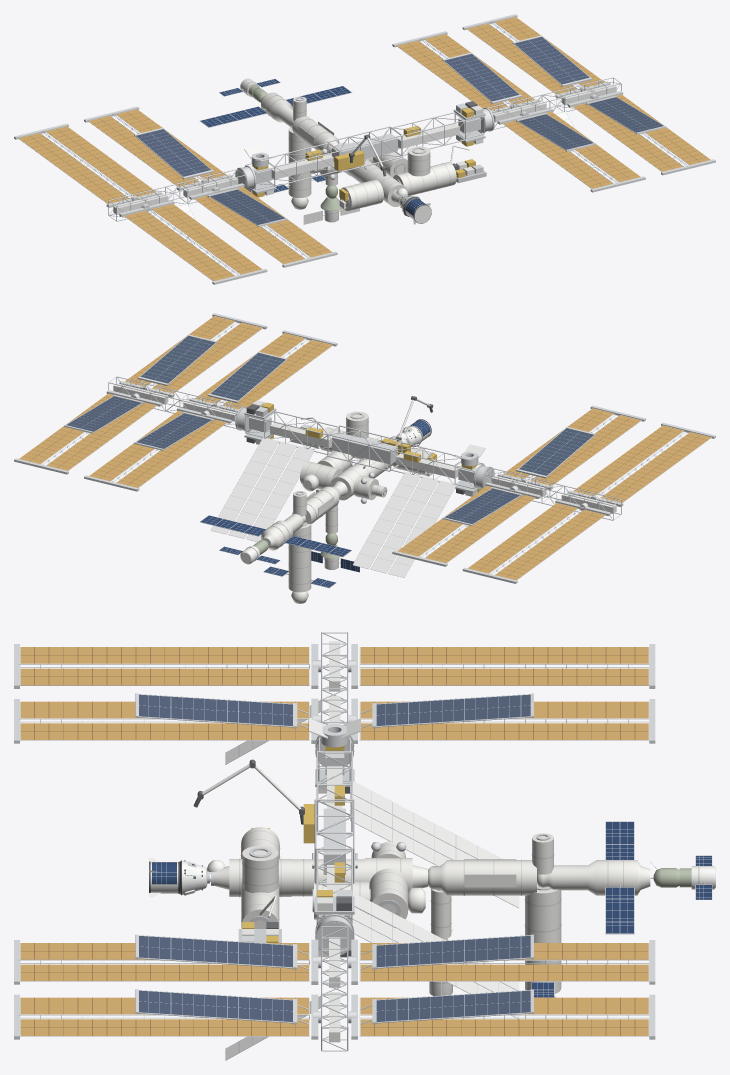
Rendered from satellite-iss.glb.
3 renders of one model, top to bottom at view 1: azimuth 30°, elevation 25°; view 2: azimuth 150°, elevation 25°; view 3: azimuth 270°, elevation 25°, orthographic. The views are drawn at different scales.
Parts seen in each view (by area): view 1: satellite-iss; view 2: satellite-iss; view 3: satellite-iss.
Boxes of the visible parts, x1,y1,x2,y2 form: satellite-iss: (14, 14, 715, 284); satellite-iss: (14, 313, 715, 603); satellite-iss: (14, 632, 715, 1060).
Size of the model in its own units: 108 by 29.91 by 81.2.
